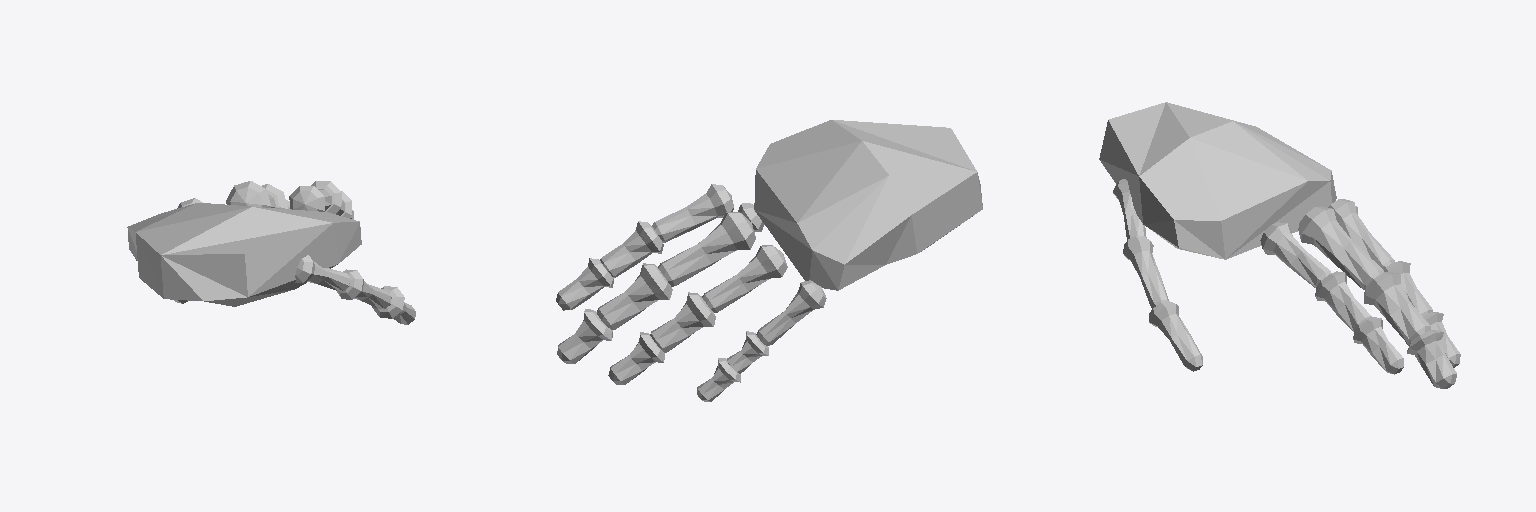
3 views of the same model, side by side, from view 1: azimuth 30°, elevation 25°; view 2: azimuth 150°, elevation 25°; view 3: azimuth 270°, elevation 25° (orthographic).
Visible parts, largest first — view 1: L_Hand, L_Finger0, L_Finger01, L_Finger2, L_Finger1, L_Finger02; view 2: L_Hand, L_Finger2, L_Finger21, L_Finger3, L_Finger1, L_Finger31, L_Finger4, L_Finger11, L_Finger22, L_Finger12, L_Finger32, L_Finger42 (+1 smaller); view 3: L_Hand, L_Finger2, L_Finger21, L_Finger1, L_Finger02, L_Finger22, L_Finger11, L_Finger01, L_Finger3, L_Finger12, L_Finger0, L_Finger31 (+1 smaller).
Boxes of the visible parts, x1,y1,x2,y2 form: L_Hand: [127, 203, 361, 306]; L_Finger0: [295, 255, 349, 291]; L_Finger01: [337, 269, 391, 308]; L_Finger2: [226, 181, 276, 207]; L_Finger1: [289, 186, 331, 211]; L_Finger02: [372, 286, 415, 324]; L_Hand: [754, 120, 982, 290]; L_Finger2: [658, 212, 755, 286]; L_Finger21: [597, 263, 672, 329]; L_Finger3: [702, 245, 787, 312]; L_Finger1: [652, 184, 733, 242]; L_Finger31: [650, 292, 715, 352]; L_Finger4: [756, 280, 826, 345]; L_Finger11: [600, 221, 663, 277]; L_Finger22: [557, 309, 612, 363]; L_Finger12: [556, 258, 613, 310]; L_Finger32: [608, 332, 664, 384]; L_Finger42: [697, 358, 740, 401]; L_Hand: [1099, 102, 1336, 259]; L_Finger2: [1298, 206, 1383, 289]; L_Finger21: [1364, 272, 1430, 344]; L_Finger1: [1260, 222, 1330, 287]; L_Finger02: [1149, 301, 1202, 371]; L_Finger22: [1407, 330, 1456, 388]; L_Finger11: [1315, 271, 1371, 331]; L_Finger01: [1123, 236, 1168, 308]; L_Finger3: [1328, 199, 1394, 268]; L_Finger12: [1353, 317, 1403, 374]; L_Finger0: [1113, 179, 1146, 239]; L_Finger31: [1383, 261, 1432, 315].
Size of the model in its own units: 0.6004 by 0.3517 by 0.6118.